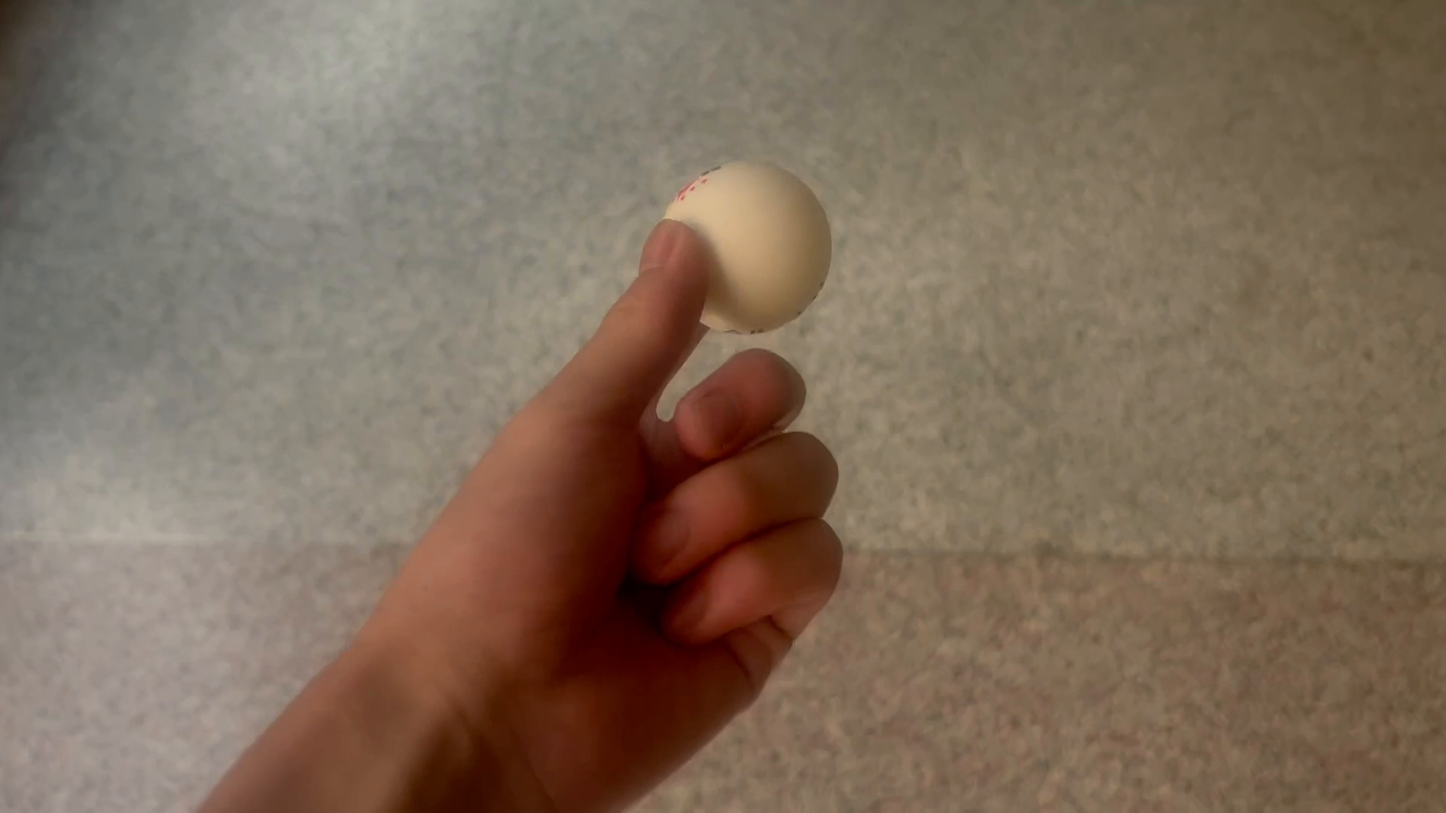Ball: (640, 156, 842, 341)
